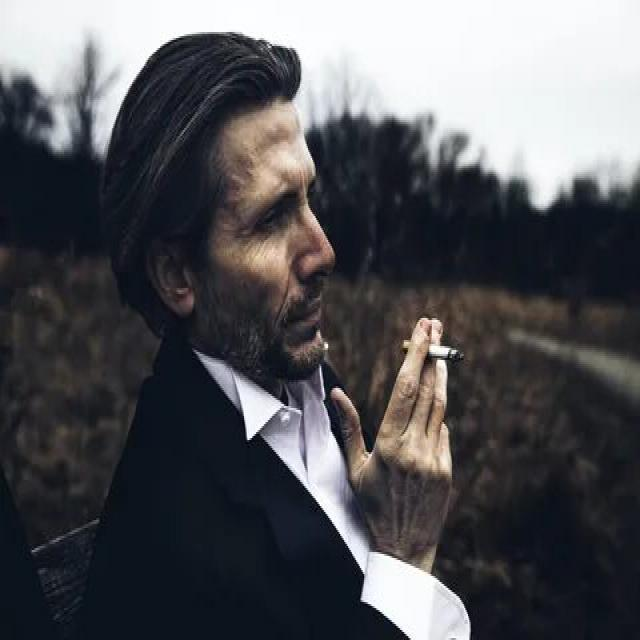smoke: (393, 328, 471, 372)
